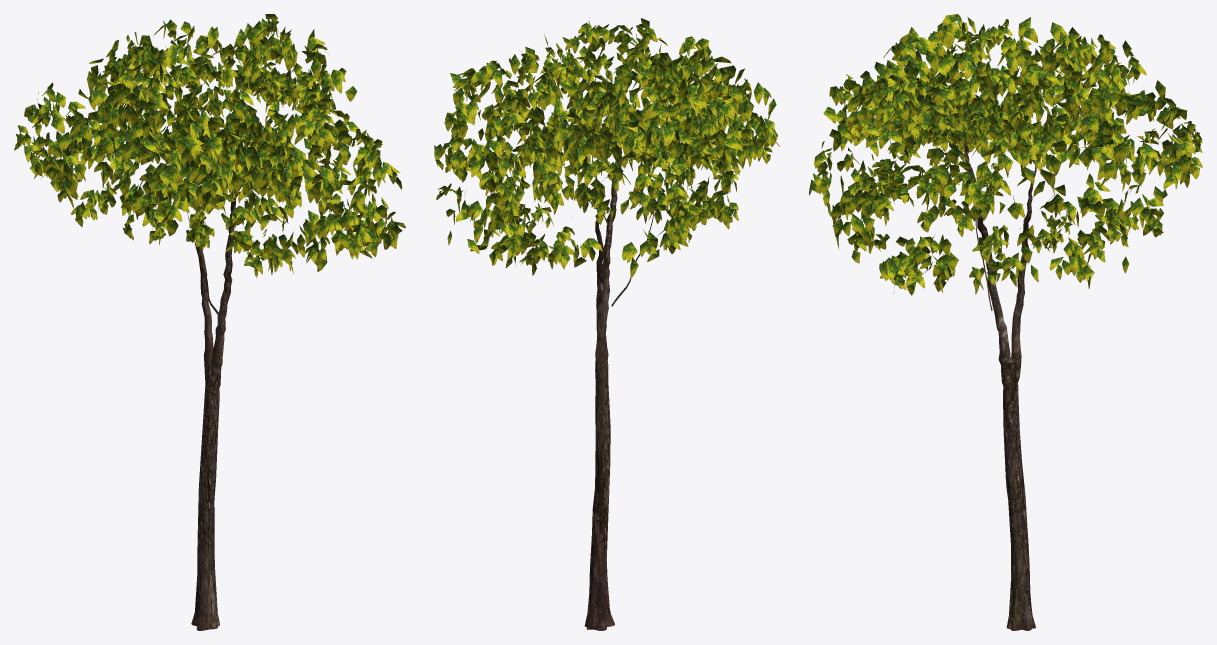
The model's file is tree_28.glb.
The picture shows the model from 3 angles, left to right: view 1: azimuth 30°, elevation 25°; view 2: azimuth 150°, elevation 25°; view 3: azimuth 270°, elevation 25°; orthographic projection. The views are drawn at different scales.
Parts seen in each view (by area): view 1: MainBuilding; view 2: MainBuilding; view 3: MainBuilding.
Part boxes in pixels (<box>): MainBuilding: <box>14,14,405,630</box>; MainBuilding: <box>434,17,779,630</box>; MainBuilding: <box>809,14,1202,630</box>.
Size of the model in its own units: 5.27 by 9.99 by 6.13.
Materials: 1 (1 with a texture image).
